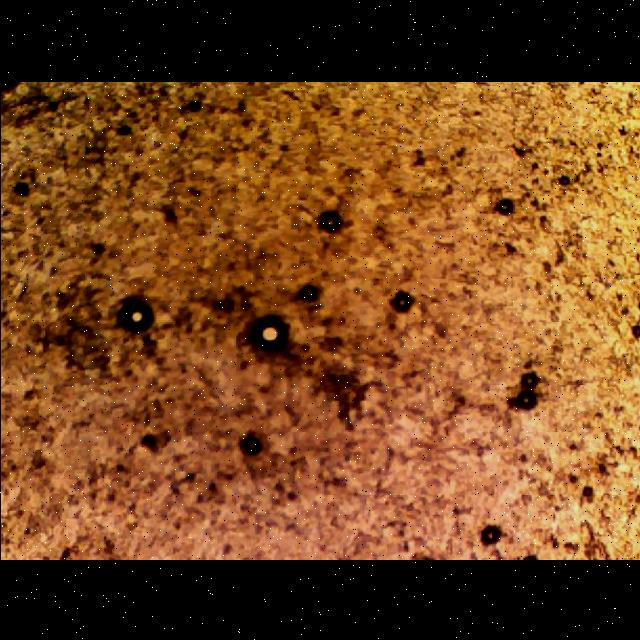microbeads: (242, 308, 296, 358), (114, 293, 156, 339)
